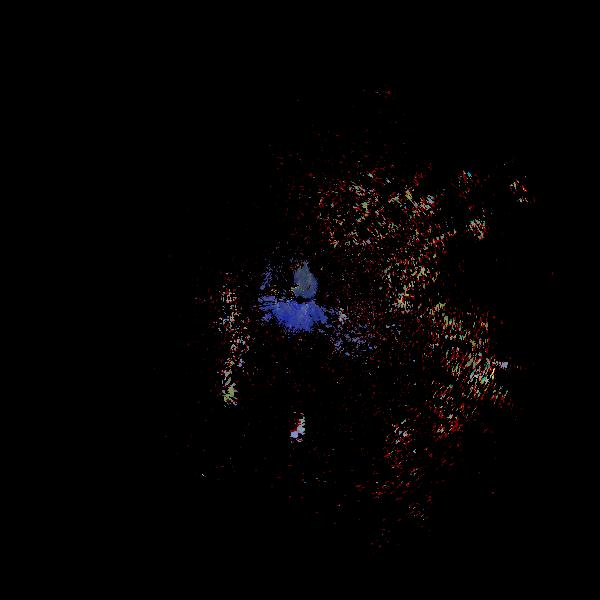roost: (273, 402, 312, 441)
